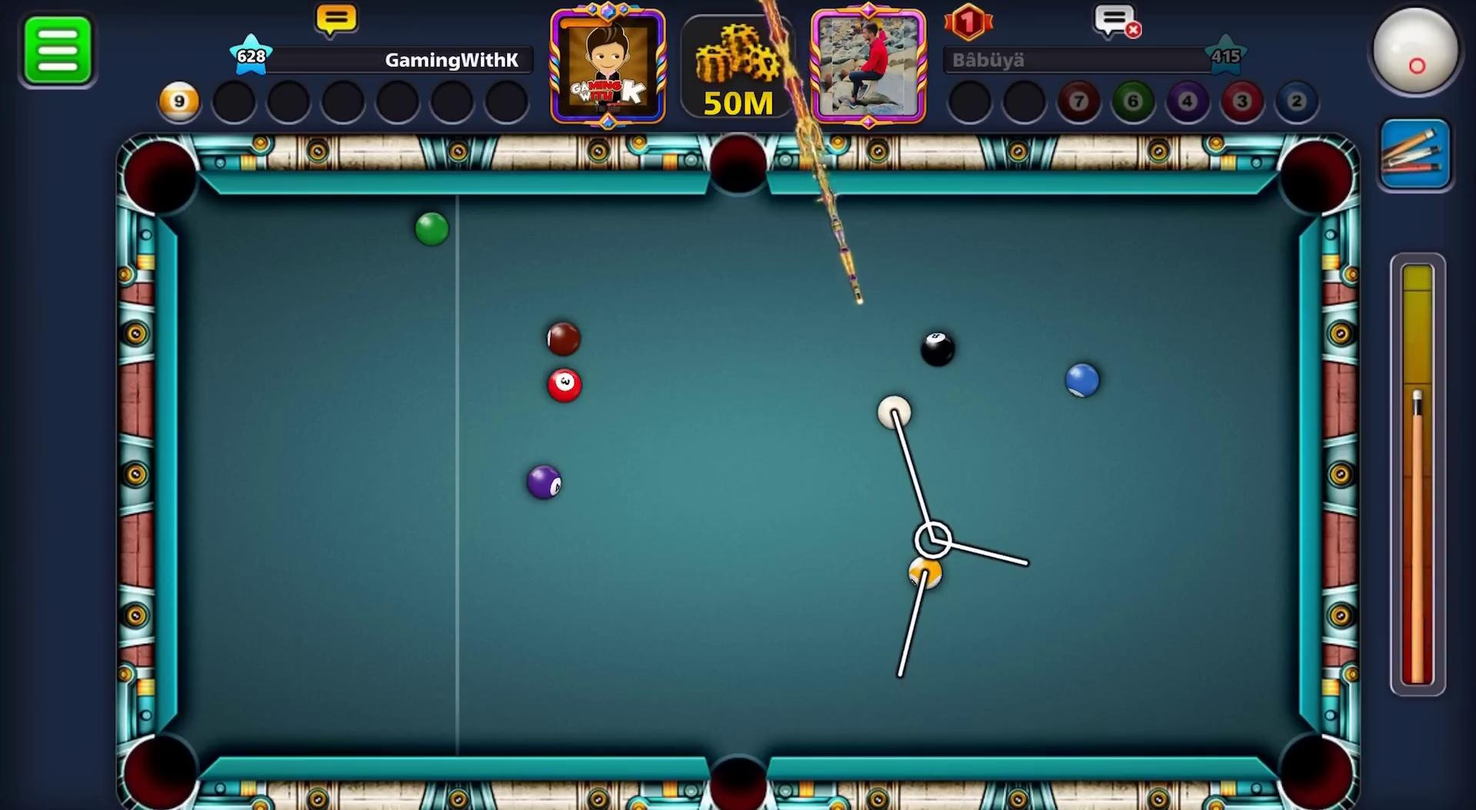Ball: (506, 451, 574, 506), (531, 315, 587, 364), (1057, 358, 1107, 407), (542, 363, 587, 412), (915, 326, 961, 372), (905, 552, 946, 595), (408, 211, 450, 250)
Force: (1385, 252, 1454, 698)
Guideline: (886, 409, 1032, 688)
Hole: (102, 709, 223, 809), (106, 124, 210, 228), (1258, 711, 1368, 809), (1268, 125, 1363, 233), (687, 725, 784, 809), (700, 119, 785, 214)
Play_Area: (179, 195, 1295, 758)
Spin: (1362, 0, 1475, 111)
White: (870, 384, 918, 435)
